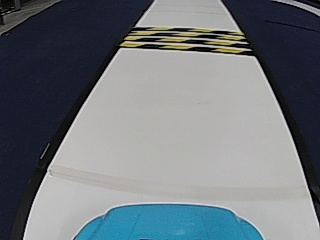bump: (131, 26, 234, 53)
